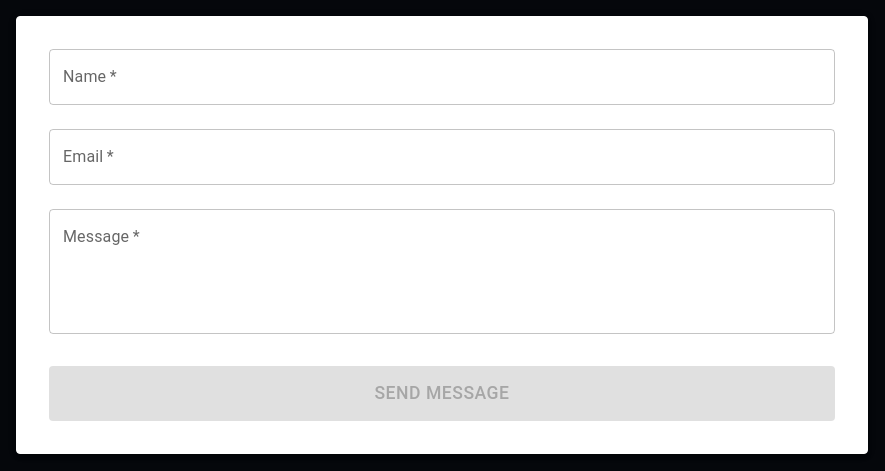
Contact Component › validates form before submission
Expected: the button "Send Message" is disabled, [49,366,835,421]
Note: Fill out form partially
Type "John Doe" into the field labelled "Name *" at (442, 77), box [49,49,835,105]
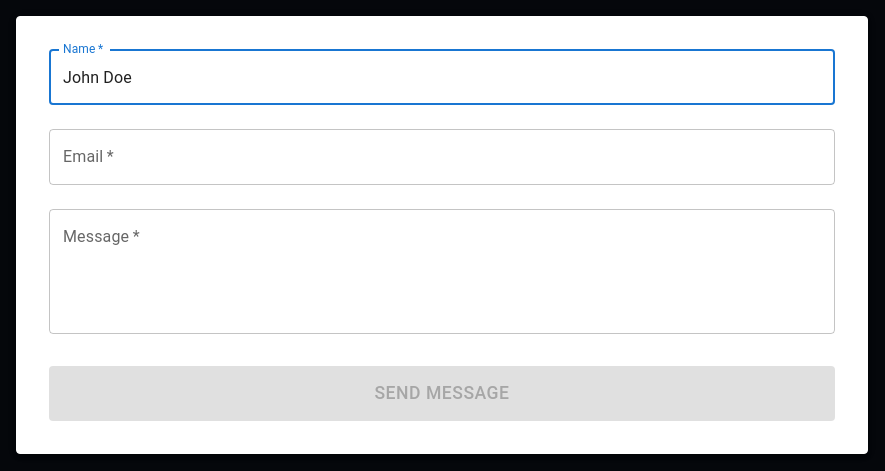
Expected: the button "Send Message" is disabled, [49,366,835,421]
Note: Complete the form
Type "john@example.com" into the field labelled "Email *" at (442, 157), box [49,129,835,185]
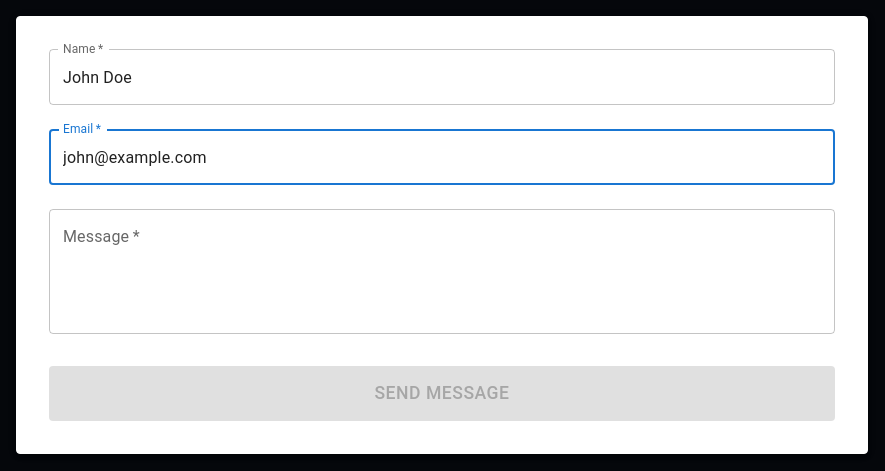
Type "Test message" into the text box labelled "Message *" at (442, 272), box [63,226,821,318]
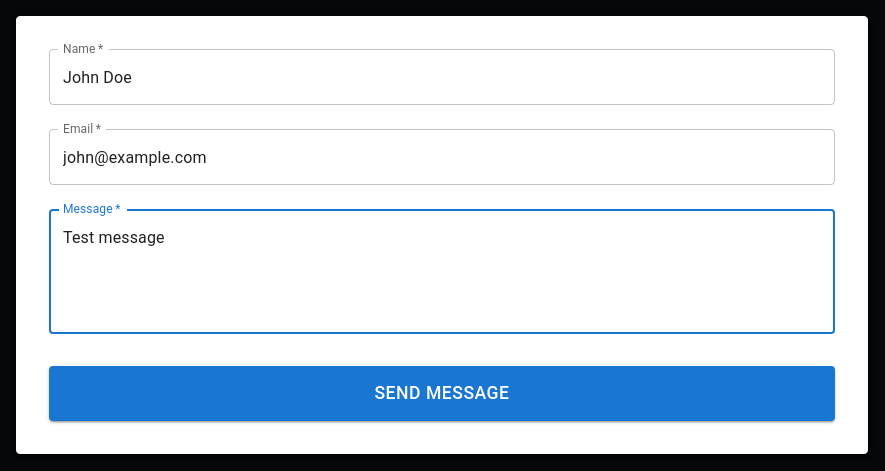
Now the button "Send Message" is enabled, box [49,366,835,421]
